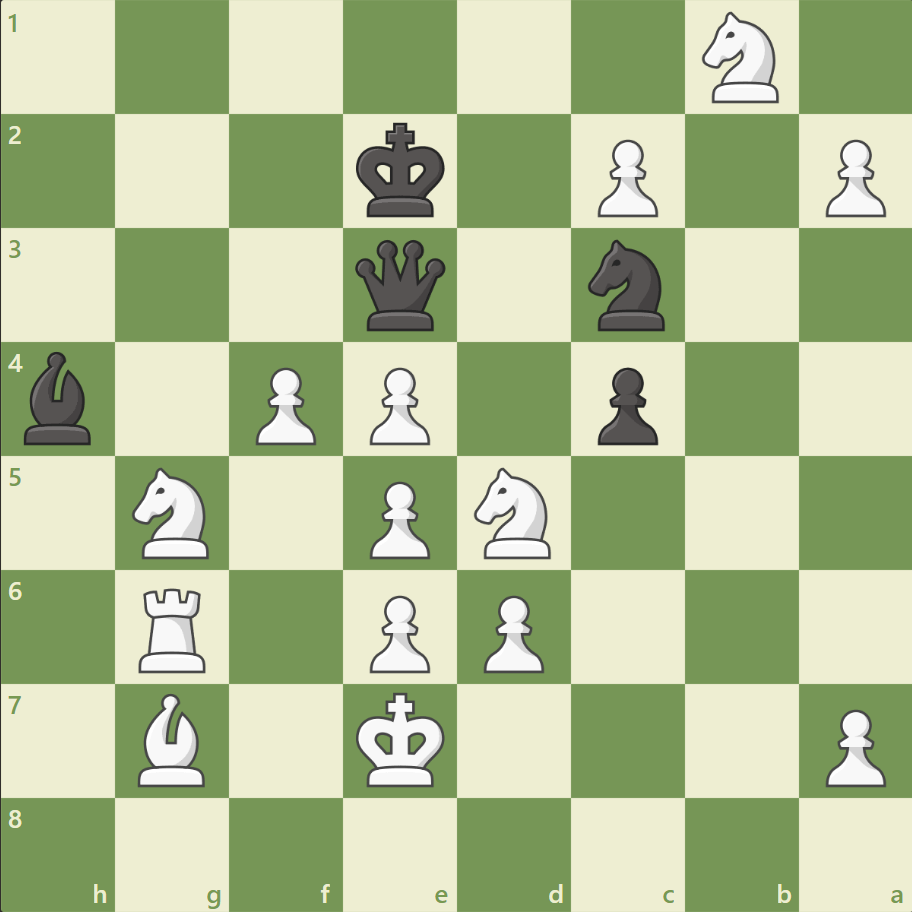B: (131, 687, 215, 790)
K: (351, 685, 451, 793)
N: (124, 461, 222, 564), (465, 461, 562, 564), (692, 7, 789, 110)
P: (474, 586, 549, 677), (247, 359, 322, 450), (815, 700, 889, 791), (361, 586, 435, 677), (361, 473, 435, 564), (361, 359, 435, 450), (815, 132, 889, 223), (588, 132, 662, 223)
R: (133, 579, 215, 676)
b: (17, 347, 101, 449)
k: (351, 117, 451, 225)
n: (579, 234, 676, 337)
p: (588, 359, 662, 450)
q: (351, 236, 450, 335)
